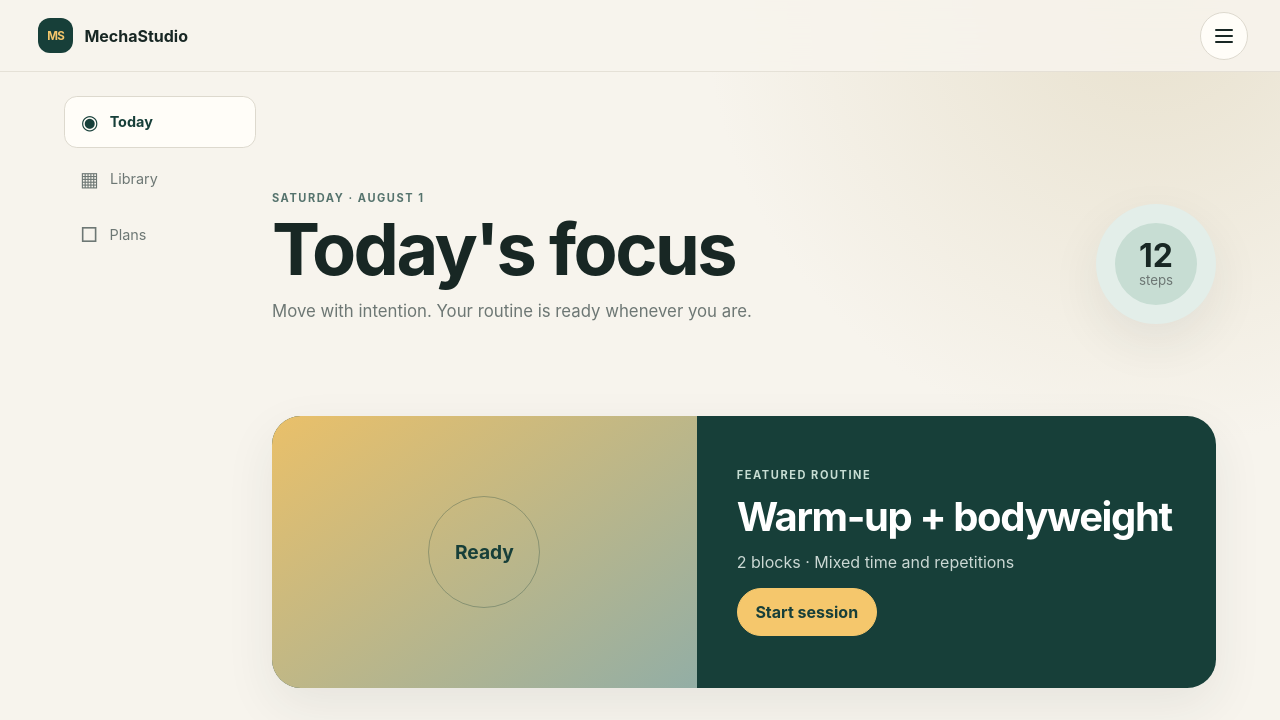
Scenario: MechaStudio › starts the acceptance routine from Today in the Session Runner
Expected: the heading "Today's focus" is shown, [272,214,752,285]
Expected: the button with aria-label "MechaStudio home" is shown, [32,17,194,54]
Click the button "Start session" at x=807, y=612, box [737,588,877,636]
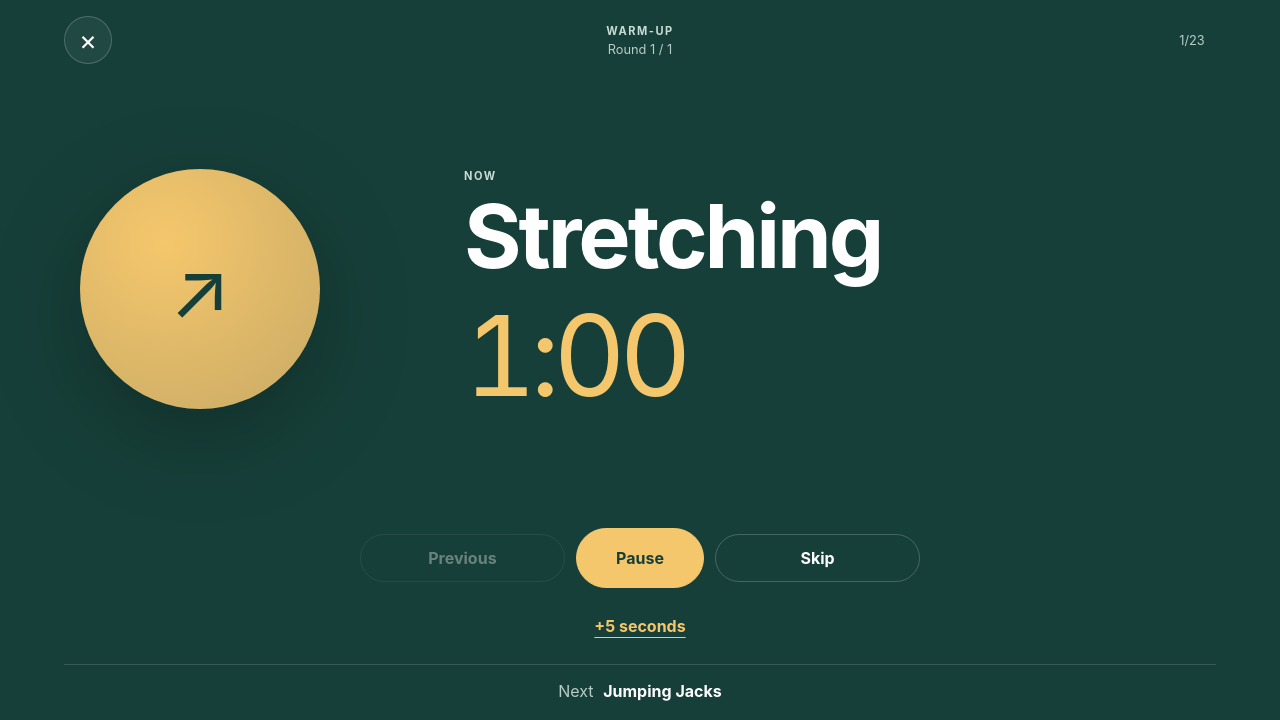
Now the heading "Stretching" is shown, box [464,193,881,279]
Now the text "1:00" is shown, box [464,287,685,423]
Now the button "Pause" is shown, box [576,528,704,588]
